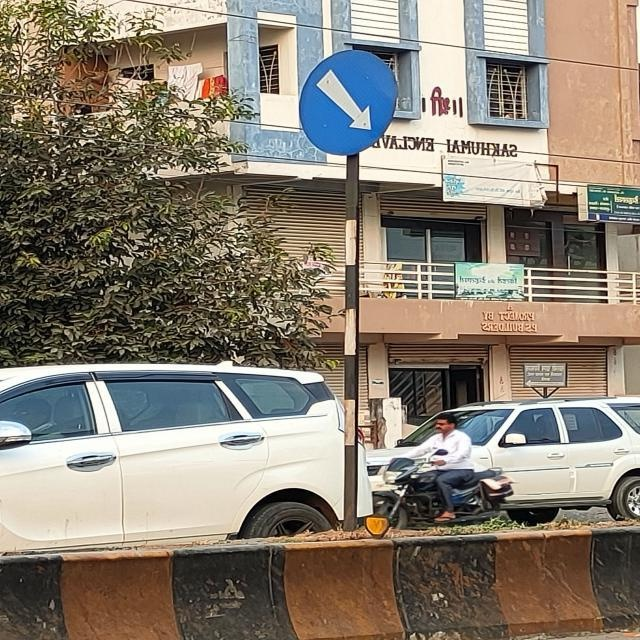R.301e: (291, 43, 402, 161)
